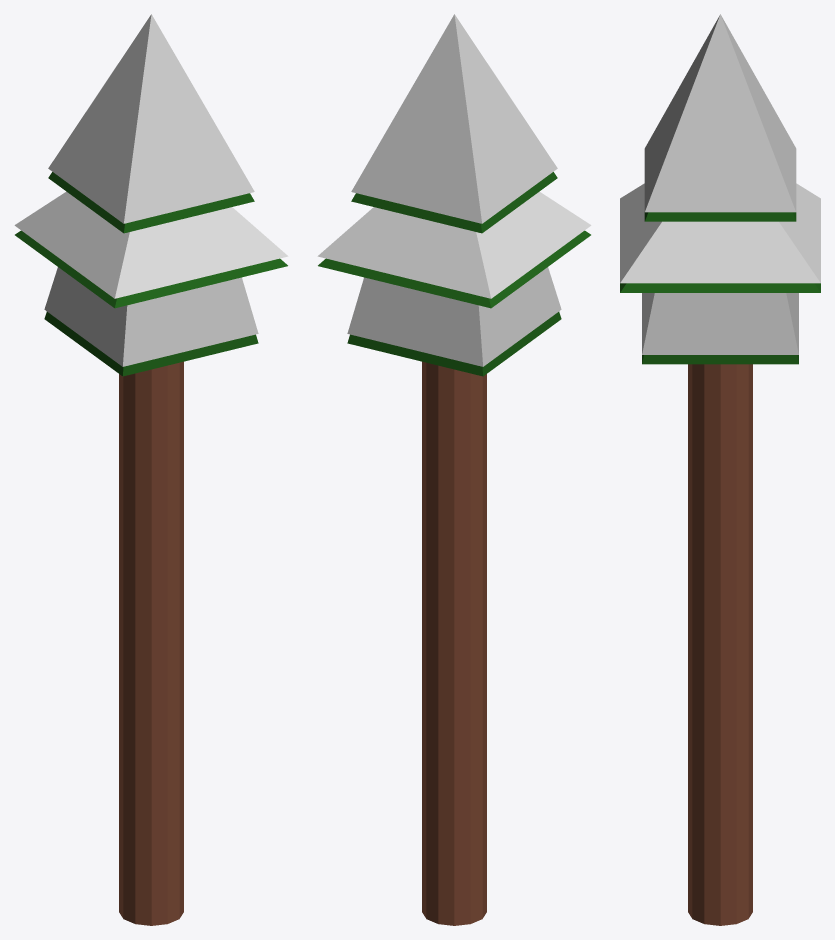
The model's file is Tree_15_winter_mat.fbx.
3 views of the same model, side by side, from view 1: azimuth 30°, elevation 25°; view 2: azimuth 150°, elevation 25°; view 3: azimuth 270°, elevation 25° (orthographic).
Parts seen in each view (by area): view 1: Tree_15_winter_mat; view 2: Tree_15_winter_mat; view 3: Tree_15_winter_mat.
Boxes of the visible parts, <box> form: Tree_15_winter_mat: <box>14,14,288,925</box>; Tree_15_winter_mat: <box>317,14,591,925</box>; Tree_15_winter_mat: <box>620,14,820,925</box>.
Size of the model in its own units: 68.73 by 339 by 68.73.
